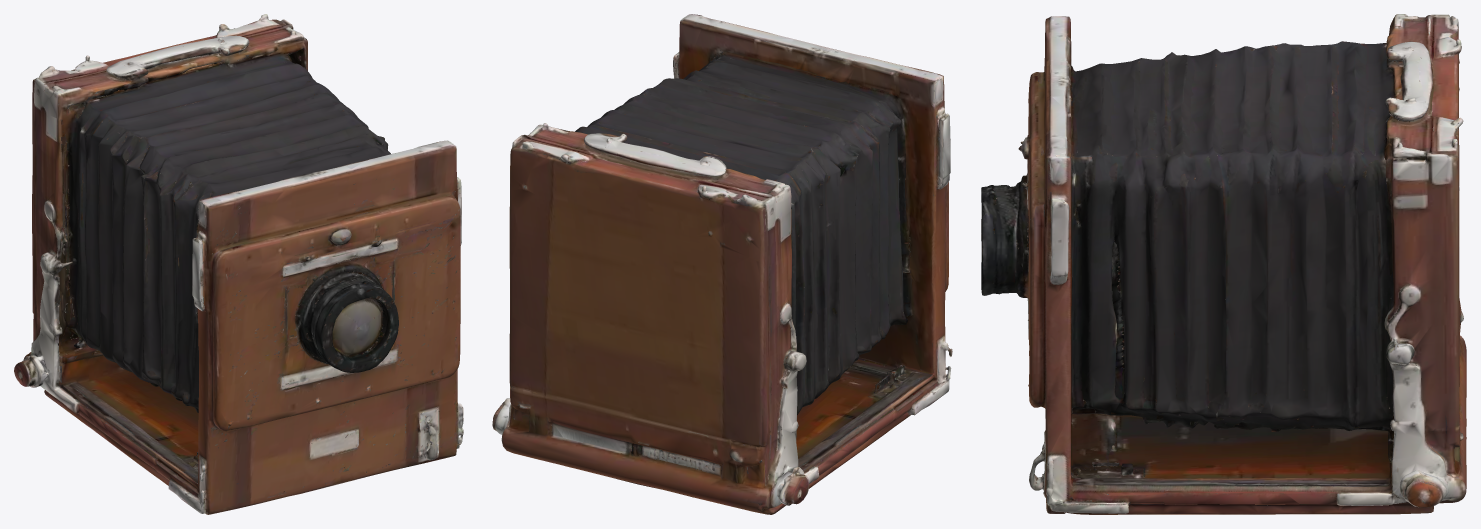
3 views of the same model, side by side, from view 1: azimuth 30°, elevation 25°; view 2: azimuth 150°, elevation 25°; view 3: azimuth 270°, elevation 25° (orthographic). The views are drawn at different scales.
Visible parts, largest first — view 1: Mesh_0; view 2: Mesh_0; view 3: Mesh_0.
Boxes of the visible parts, left/top/right/bottom form: Mesh_0: left=14, top=14, right=463, bottom=514; Mesh_0: left=492, top=14, right=952, bottom=514; Mesh_0: left=981, top=14, right=1466, bottom=514.
Bounding box in the file's own units: 1.62 × 1.69 × 1.98.
Materials: 1 (1 with a texture image).
